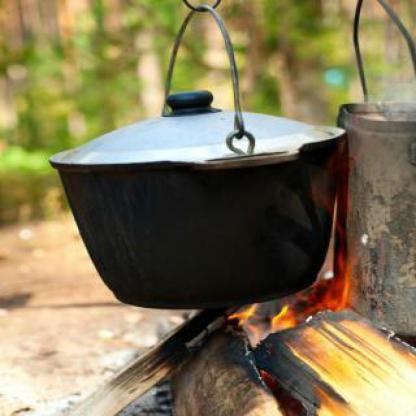fire: (222, 244, 360, 337)
